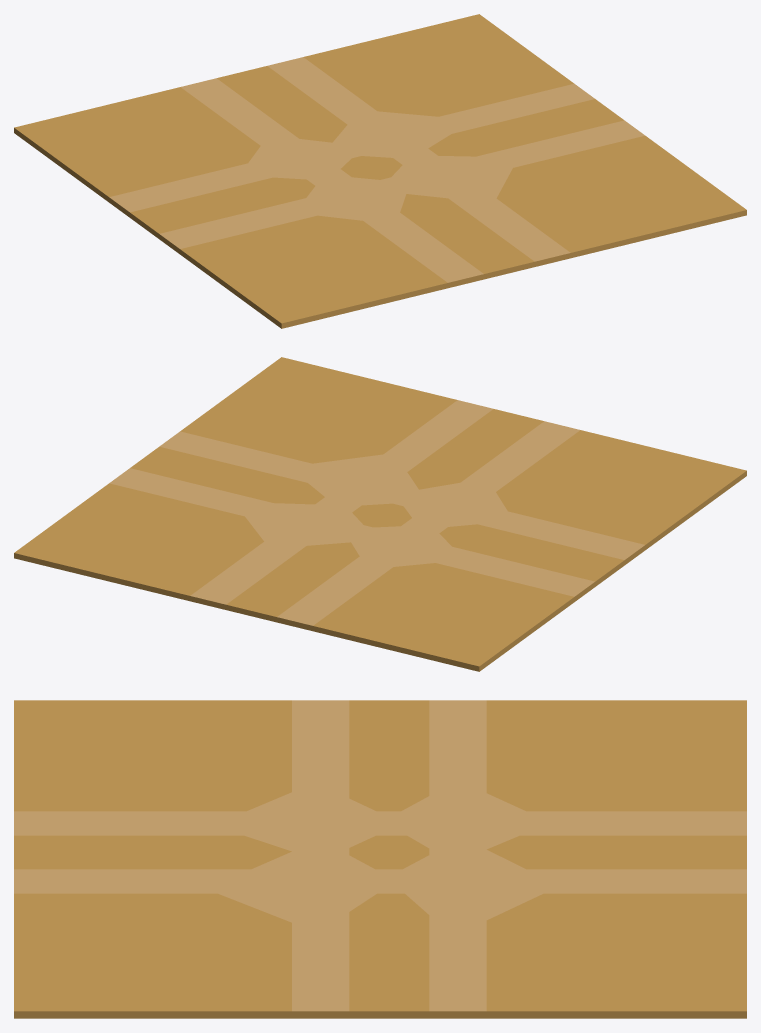
File: road7.fbx
The picture shows the model from 3 angles, top to bottom: view 1: azimuth 30°, elevation 25°; view 2: azimuth 150°, elevation 25°; view 3: azimuth 270°, elevation 25°; orthographic projection. The views are drawn at different scales.
Visible parts, largest first — view 1: Cube_28; view 2: Cube_28; view 3: Cube_28.
Part boxes in pixels (x1=…): Cube_28: x1=14, y1=14, x2=746, y2=328; Cube_28: x1=14, y1=357, x2=746, y2=671; Cube_28: x1=14, y1=700, x2=746, y2=1018.
Size of the model in its own units: 702 by 7.81 by 699.
